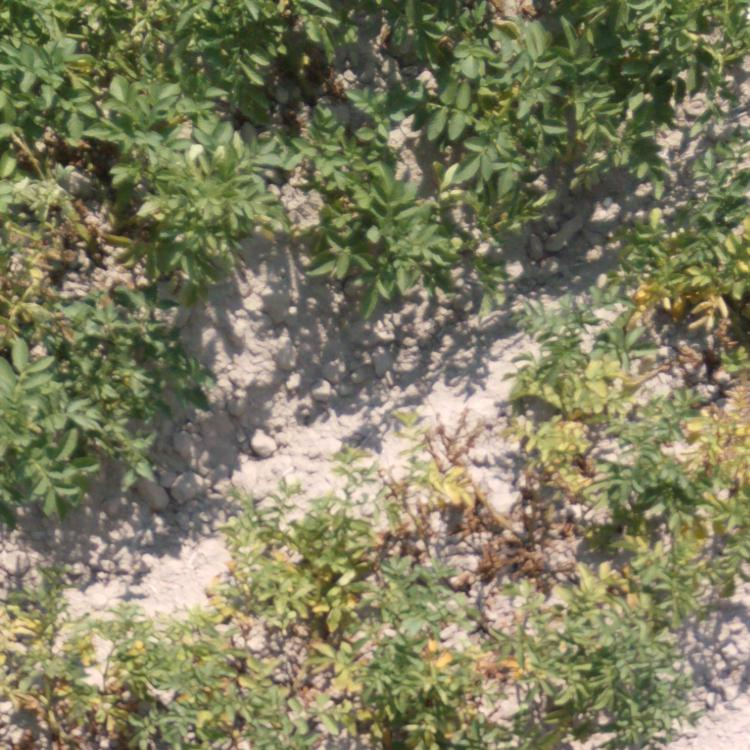healthy: (316, 7, 455, 313), (177, 1, 302, 291), (473, 1, 627, 227), (1, 335, 173, 527), (4, 1, 170, 152), (642, 5, 746, 120)
stressed: (451, 415, 662, 750), (207, 475, 450, 750), (666, 174, 750, 610), (7, 579, 204, 750), (1, 156, 168, 333), (518, 299, 665, 410)
